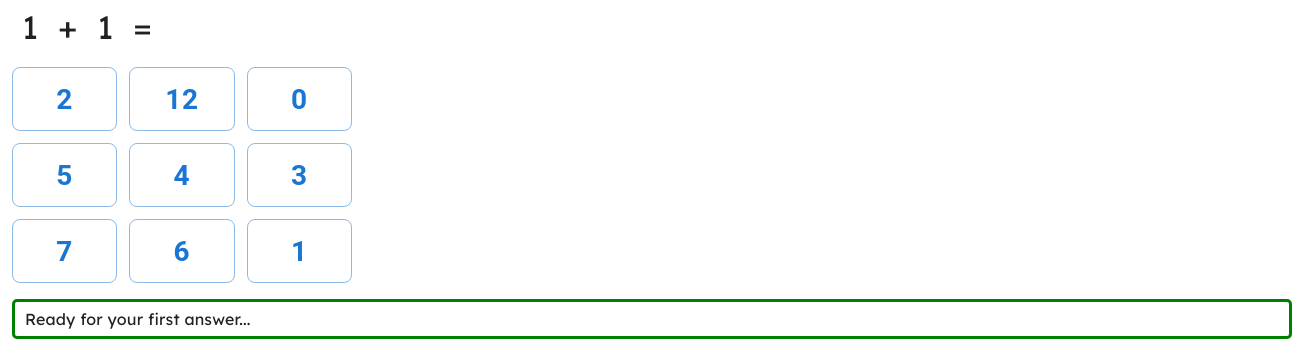
QuizLine › should reset disabled cells and regenerate choices when problem changes
Click the button "12" at (182, 99), box [129,67,235,131]
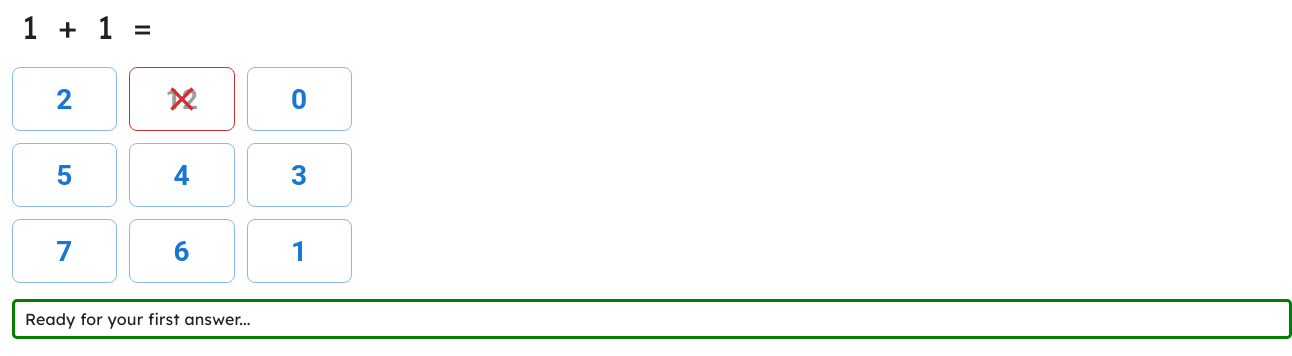
Now the button "12" is disabled, box [129,67,235,131]
